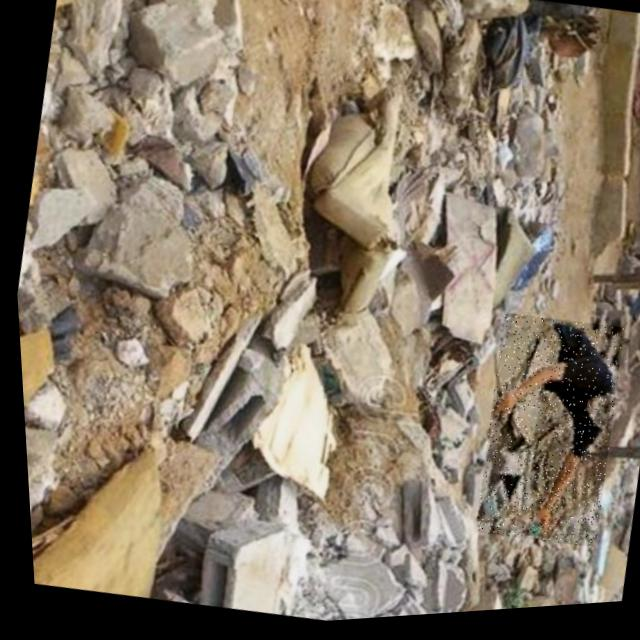Person in Rubble: (457, 313, 629, 561)
